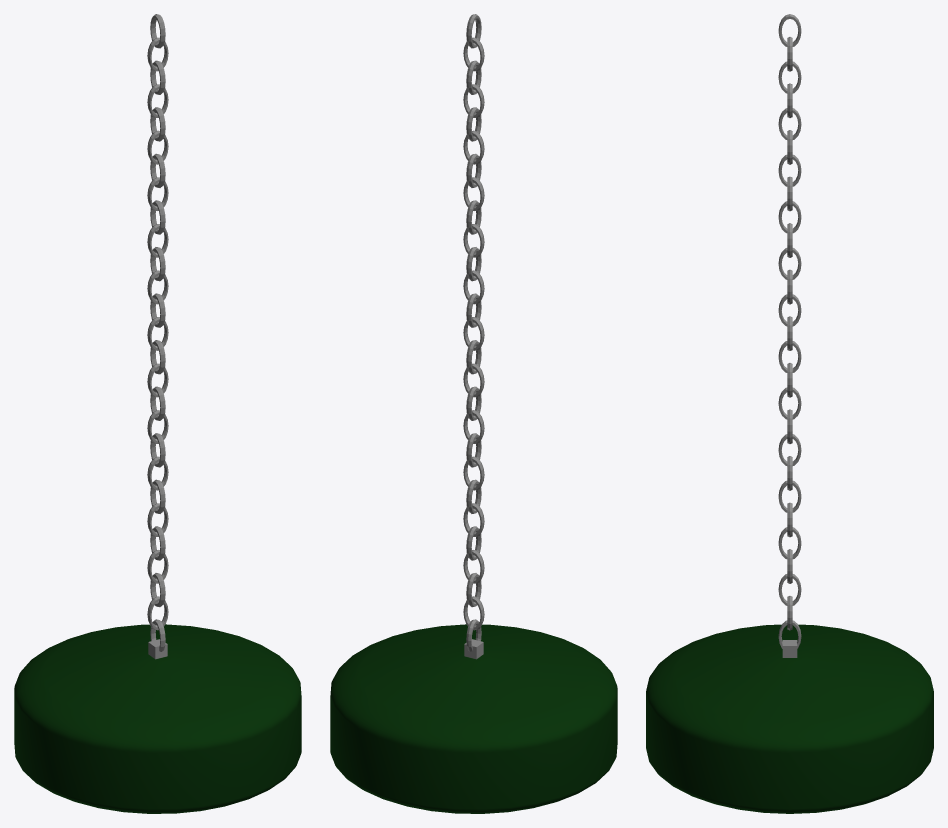
Rendered from lamp.obj.
3 renders of one model, left to right at view 1: azimuth 30°, elevation 25°; view 2: azimuth 150°, elevation 25°; view 3: azimuth 270°, elevation 25°, orthographic.
Visible parts, largest first — view 1: shade, chain; view 2: shade, chain; view 3: shade, chain.
Boxes of the visible parts, x1,y1,x2,y2 form: shade: (14,624,301,813); chain: (147,14,168,659); shade: (330,624,617,813); chain: (463,14,484,659); shade: (646,624,933,813); chain: (778,14,801,657).
Size of the model in its own units: 0.7 by 2.03 by 0.7.
